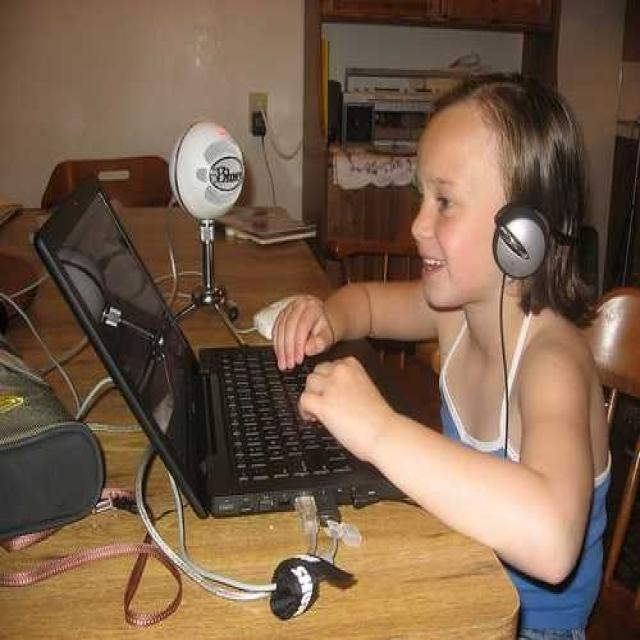microphone: (170, 118, 245, 222)
